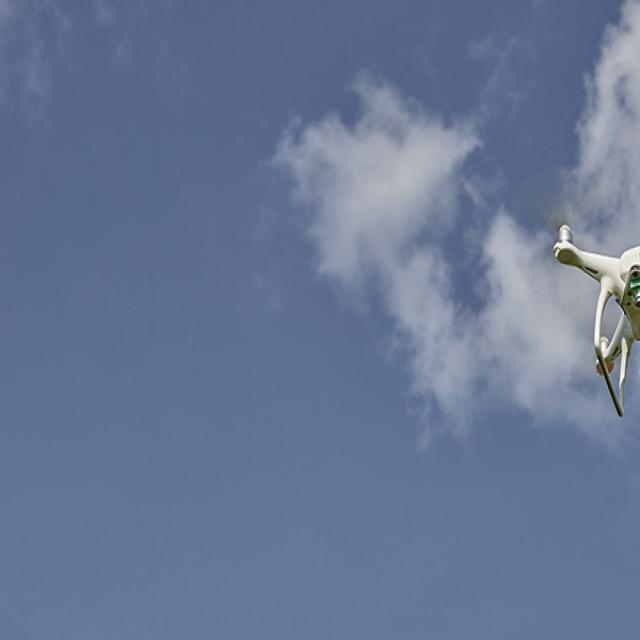drone: (544, 180, 640, 395)
